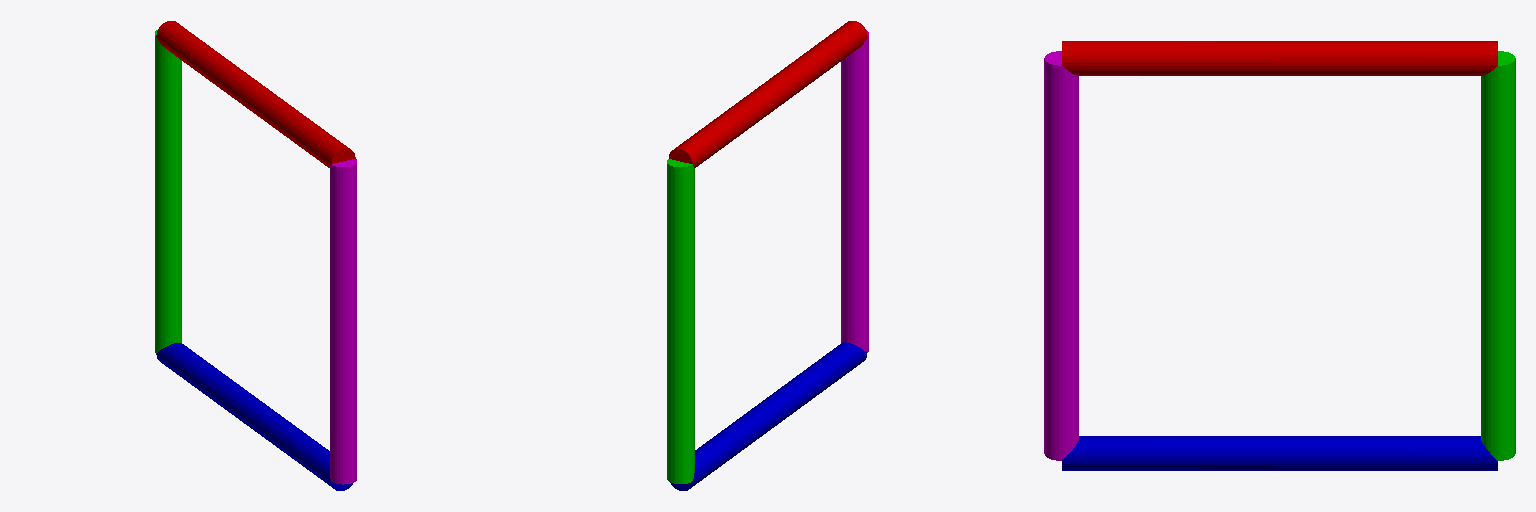
robot.urdf — parallel_link:
<?xml version="1.0"?>
<robot name="parallel_link">
  <link name="base_link">
    <visual>
      <origin xyz="0 0.25 0" rpy="1.57 0 0" />
      <geometry>
        <cylinder radius="0.02" length="0.5" />
      </geometry>
      <material name="blue">
        <color rgba="0 0 .8 1" />
      </material>
    </visual>
  </link>

  <joint name="joint0" type="revolute">
    <parent link="base_link"/>
    <child link="link1"/>
    <origin xyz="0 0 0" rpy="0 0 0" />
    <axis xyz="1 0 0" />
    <limit lower="-1.57" upper="1.57" effort="0.5293" velocity="6.159937255" />
  </joint>

  <link name="link1">
    <visual>
      <origin xyz="0 0 0.25" rpy="0 0 0" />
      <geometry>
        <cylinder radius="0.02" length="0.5" />
      </geometry>
      <material name="yellow">
        <color rgba=".8 0 .8 1" />
      </material>
    </visual>
  </link>

  <joint name="joint1" type="revolute">
    <parent link="base_link"/>
    <child link="link2"/>
    <origin xyz="0 0.5 0" rpy="0 0 0" />
    <axis xyz="1 0 0" />
    <limit lower="-1.57" upper="1.57" effort="0.5293" velocity="6.159937255" />
    <mimic joint="joint0" multiplier="1" offset="0" />
  </joint>

  <link name="link2">
    <visual>
      <origin xyz="0 0 0.25" rpy="0 0 0" />
      <geometry>
        <cylinder radius="0.02" length="0.5" />
      </geometry>
      <material name="green">
        <color rgba="0 .8 0 1" />
      </material>
    </visual>
  </link>

  <joint name="joint2" type="revolute">
    <parent link="link1"/>
    <child link="link3"/>
    <origin xyz="0 0 0.5" rpy="0 0 0" />
    <axis xyz="1 0 0" />
    <limit lower="-1.57" upper="1.57" effort="0.5293" velocity="6.159937255" />
    <mimic joint="joint0" multiplier="-1" offset="0" />
  </joint>

  <link name="link3">
    <visual>
      <origin xyz="0 0.25 0" rpy="1.57 0 0" />
      <geometry>
        <cylinder radius="0.02" length="0.5" />
      </geometry>
      <material name="red">
        <color rgba=".8 0 0 1" />
      </material>
    </visual>
  </link>

</robot>

--- Render facts (derived) ---
3 views of the same robot in one strip: view 1: azimuth 30°, elevation 25°; view 2: azimuth 150°, elevation 25°; view 3: azimuth 270°, elevation 25° (orthographic).
Robot: parallel_link — 4 links, 3 joints (3 revolute); root link base_link; default pose: every joint at zero.
Visible links, largest first — view 1: link1, link2, link3, base_link; view 2: link2, link1, link3, base_link; view 3: link3, base_link, link2, link1.
Boxes of the visible links, x1,y1,x2,y2 form: link1: (330,159,356,484); link2: (155,30,181,353); link3: (156,21,355,167); base_link: (156,343,352,490); link2: (667,159,694,483); link1: (841,30,868,352); link3: (669,21,867,167); base_link: (670,342,866,490); link3: (1062,41,1497,75); base_link: (1062,436,1497,470); link2: (1481,51,1515,460); link1: (1044,51,1078,460).
Bounding box of the posed robot: 0.04 × 0.54 × 0.5404 m (x, y, z).
Geometry: primitives only (box / cylinder / sphere), no mesh files.